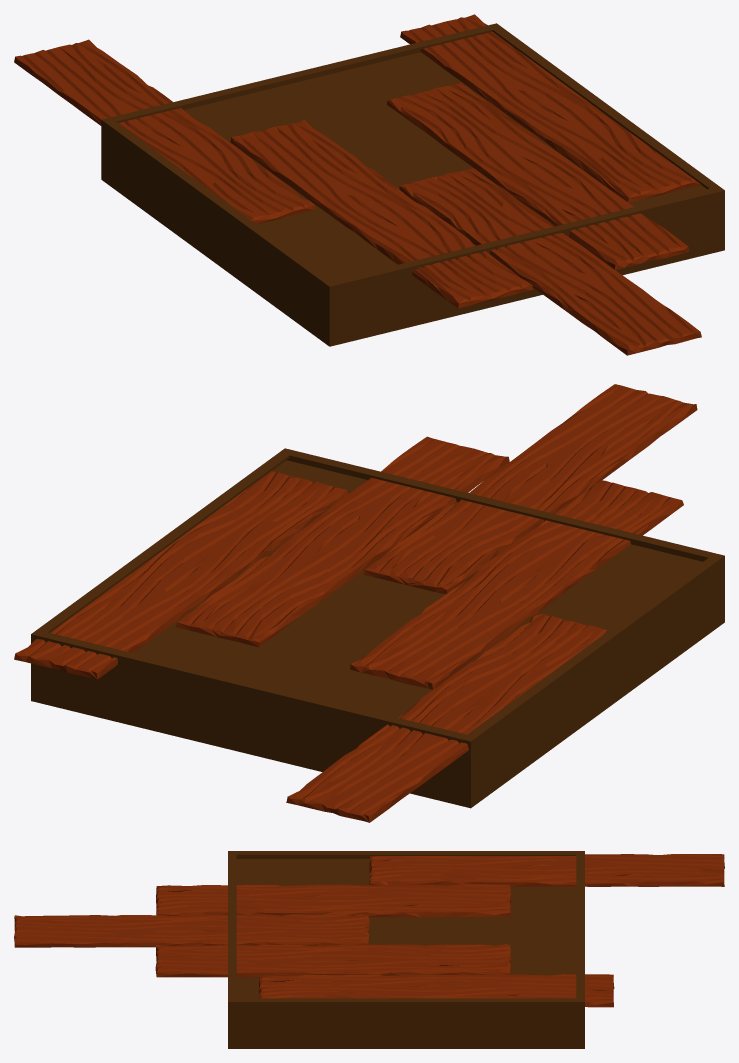
File: Floor.glb
The picture shows the model from 3 angles, top to bottom: view 1: azimuth 30°, elevation 25°; view 2: azimuth 150°, elevation 25°; view 3: azimuth 270°, elevation 25°; orthographic projection. The views are drawn at different scales.
Visible parts, largest first — view 1: Cube.001, Plane.004, Plane.003, Plane.009, Plane.002, Plane.001; view 2: Cube.001, Plane.003, Plane.004, Plane.009, Plane.002, Plane.001; view 3: Cube.001, Plane.009, Plane.004, Plane.003, Plane.001, Plane.002.
Boxes of the visible parts, x1,y1,x2,y2 form: Cube.001: (101, 23, 724, 346); Plane.004: (230, 119, 532, 308); Plane.003: (387, 82, 689, 270); Plane.009: (399, 168, 701, 355); Plane.002: (400, 14, 701, 202); Plane.001: (14, 39, 315, 224); Cube.001: (31, 448, 724, 808); Plane.003: (176, 436, 509, 647); Plane.004: (350, 480, 683, 689); Plane.009: (363, 384, 697, 594); Plane.002: (14, 471, 348, 679); Plane.001: (286, 613, 608, 822); Cube.001: (228, 851, 584, 1048); Plane.009: (14, 914, 369, 947); Plane.004: (156, 884, 511, 917); Plane.003: (155, 944, 510, 977); Plane.001: (369, 854, 724, 886); Plane.002: (258, 974, 614, 1007).
Bounding box in the file's own units: 2 × 0.2899 × 3.98.
